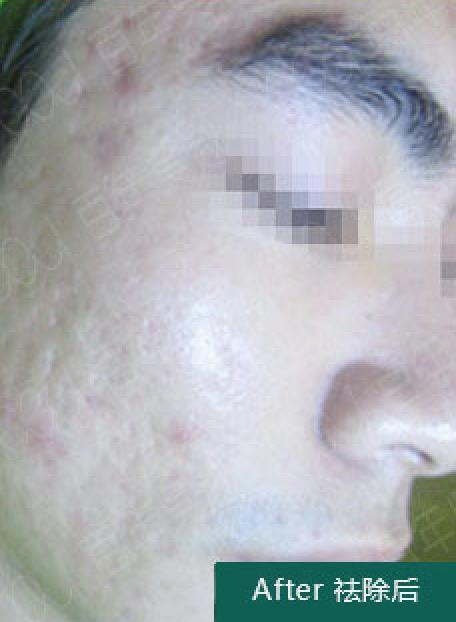fore: (7, 400, 44, 457), (89, 114, 124, 173), (118, 47, 153, 100)
